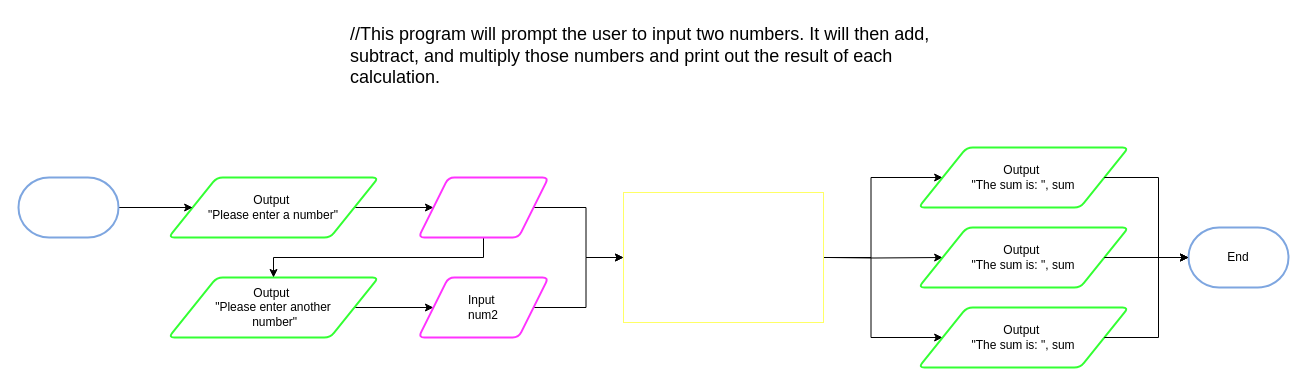
This 1306x385 diagram has some shape labels left out. Each missing label, with the box of its shape:
Input num1: (417, 176, 549, 238)
Start: (17, 176, 119, 238)
sum = num1 + num2 difference = num1 - num2 product = num1 * num2: (622, 192, 824, 322)
